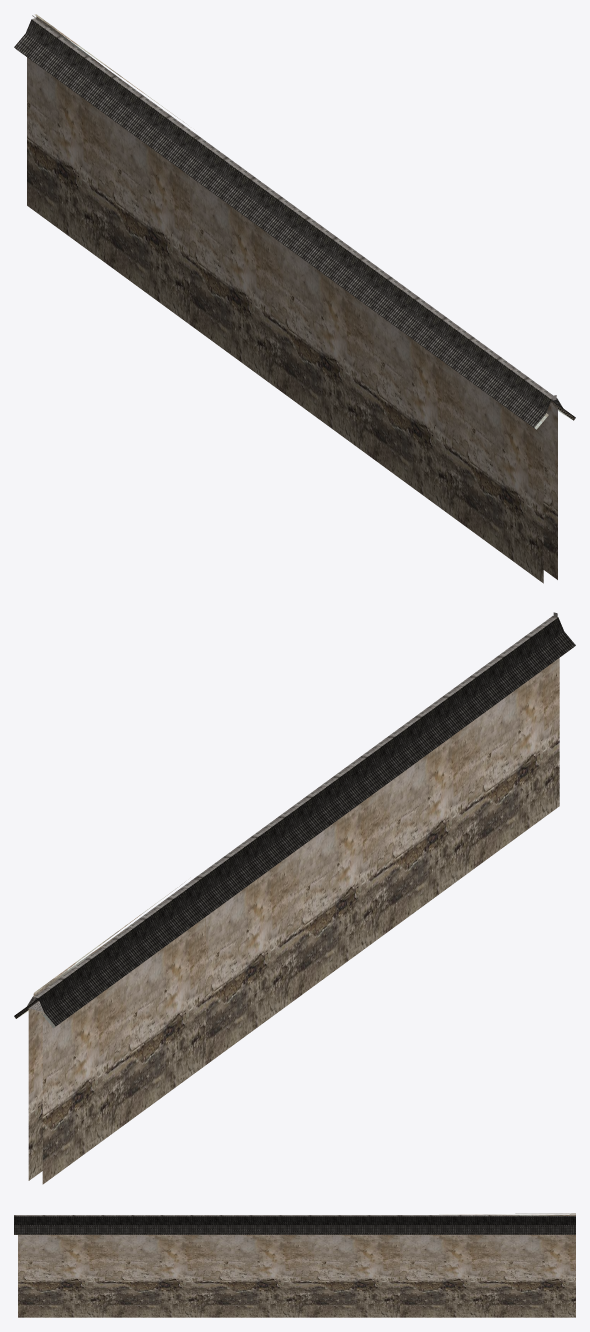
File: ian1628.obj
3 renders of one model, top to bottom at view 1: azimuth 30°, elevation 25°; view 2: azimuth 150°, elevation 25°; view 3: azimuth 270°, elevation 25°, orthographic. The views are drawn at different scales.
Visible parts, largest first — view 1: ian1628; view 2: ian1628; view 3: ian1628.
Part boxes in pixels (x1,y1,x2,y2): ian1628: (14, 14, 575, 583); ian1628: (14, 612, 575, 1184); ian1628: (14, 1213, 575, 1317).
Size of the model in its own units: 16.54 by 71.33 by 356.
